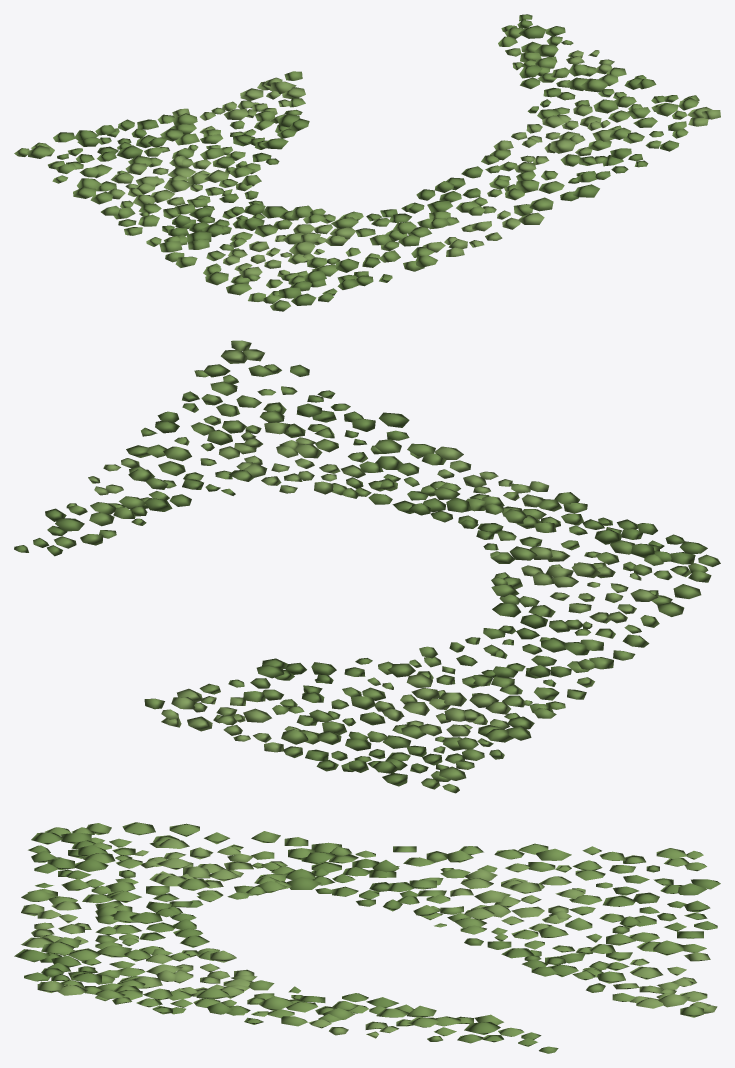
The model's file is canopy-1-5--1.glb.
The picture shows the model from 3 angles, top to bottom: view 1: azimuth 30°, elevation 25°; view 2: azimuth 150°, elevation 25°; view 3: azimuth 270°, elevation 25°; orthographic projection. The views are drawn at different scales.
Bounding box in the file's own units: 518 × 130 × 522.
1 material, 1 textured.
